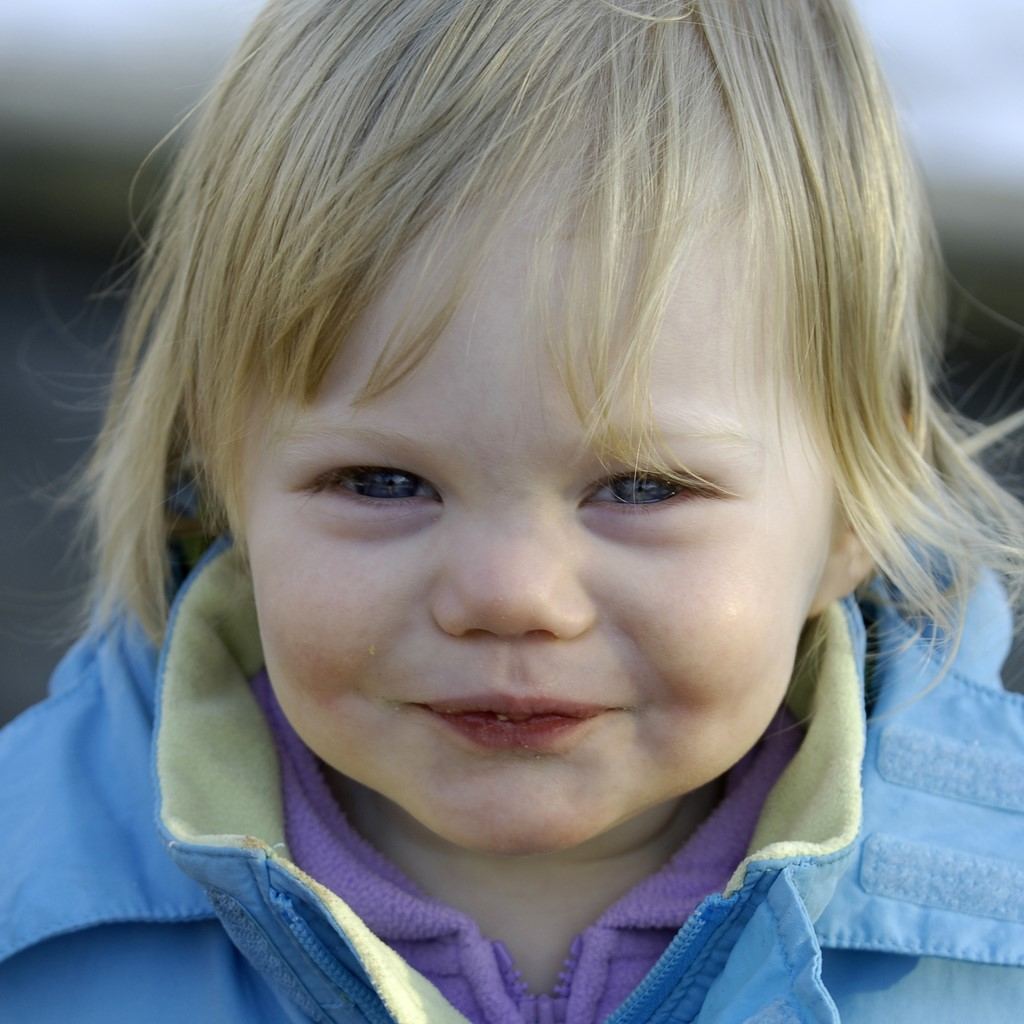sin_mascara: (202, 69, 843, 829)
